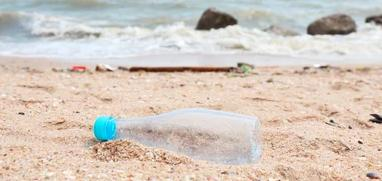Plastic: (89, 106, 265, 177)
